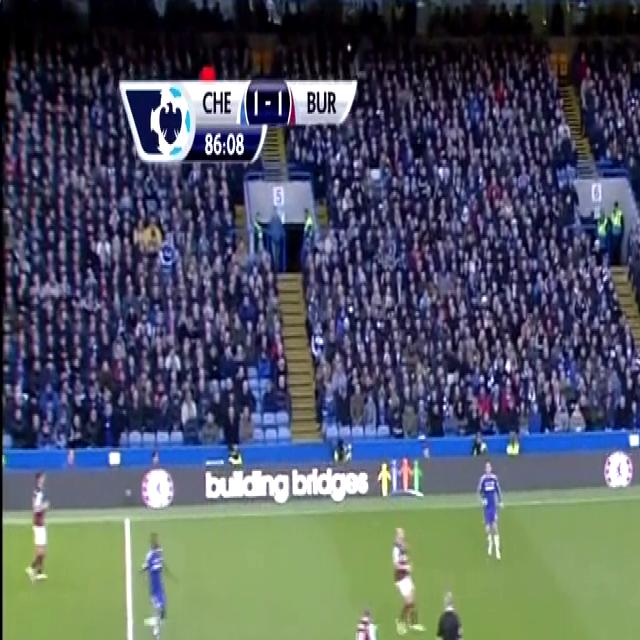referee: (429, 583, 473, 640), (0, 411, 12, 582)
soccer-player: (136, 517, 176, 640), (389, 515, 426, 640), (320, 401, 360, 513), (20, 465, 54, 596), (474, 453, 510, 572), (353, 599, 402, 640)
